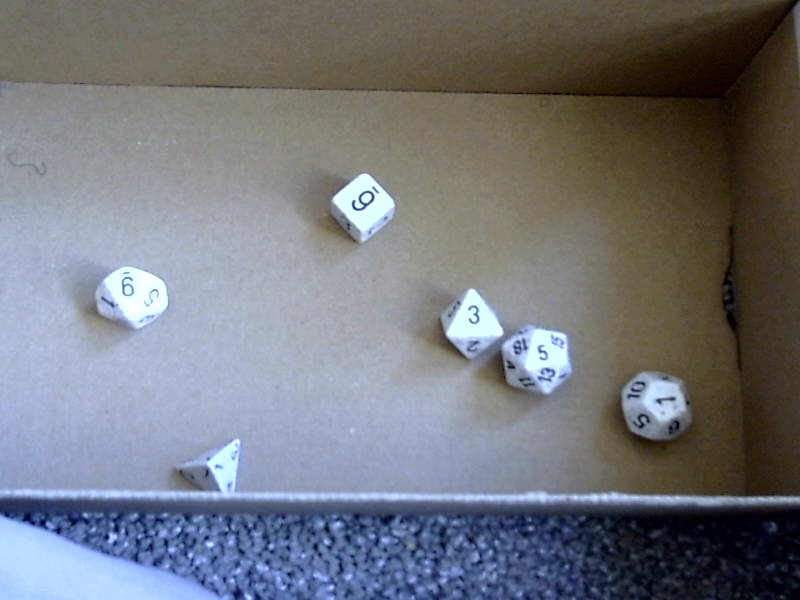d10 9: (89, 260, 180, 339)
d12 1: (616, 363, 699, 449)
d20 5: (500, 320, 578, 403)
d4 1: (164, 426, 256, 502)
d6 6: (320, 163, 403, 250)
d8 3: (430, 279, 507, 364)
